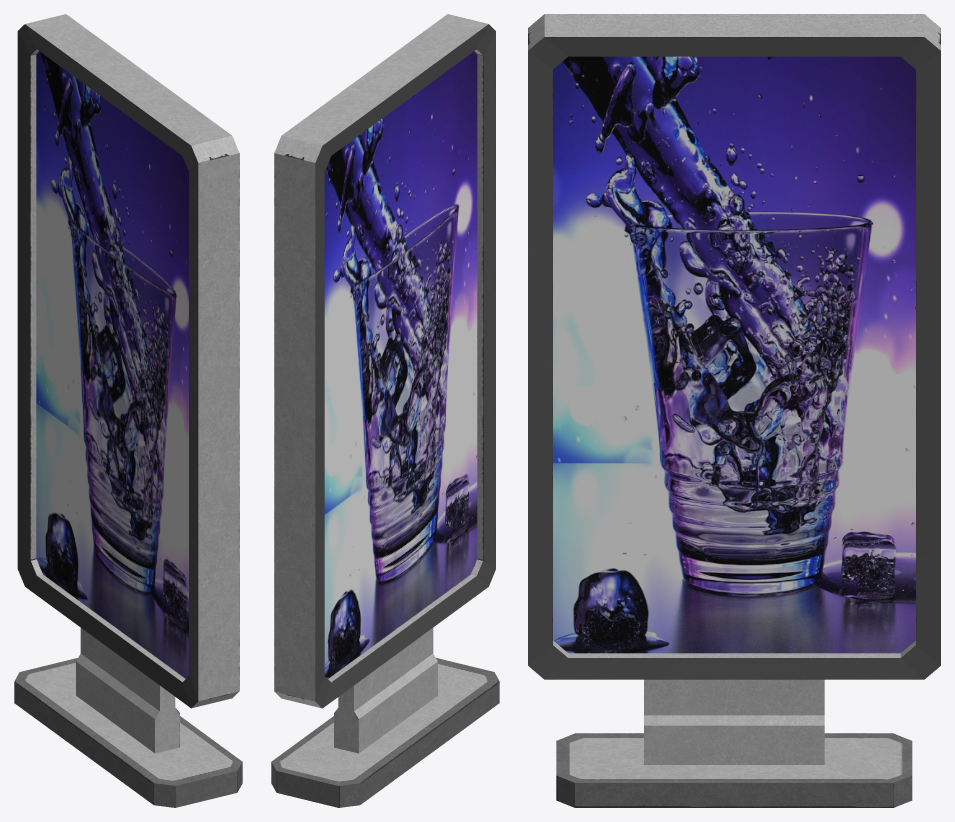
Rendered from Panel01.FBX.
3 views of the same model, side by side, from view 1: azimuth 30°, elevation 25°; view 2: azimuth 150°, elevation 25°; view 3: azimuth 270°, elevation 25° (orthographic). The views are drawn at different scales.
Parts seen in each view (by area): view 1: Panel01; view 2: Panel01; view 3: Panel01.
Part boxes in pixels (x1,y1,x2,y2): Panel01: [14, 14, 242, 807]; Panel01: [271, 14, 499, 807]; Panel01: [528, 14, 940, 807].
Bounding box in the file's own units: 297 × 2125 × 1049.
